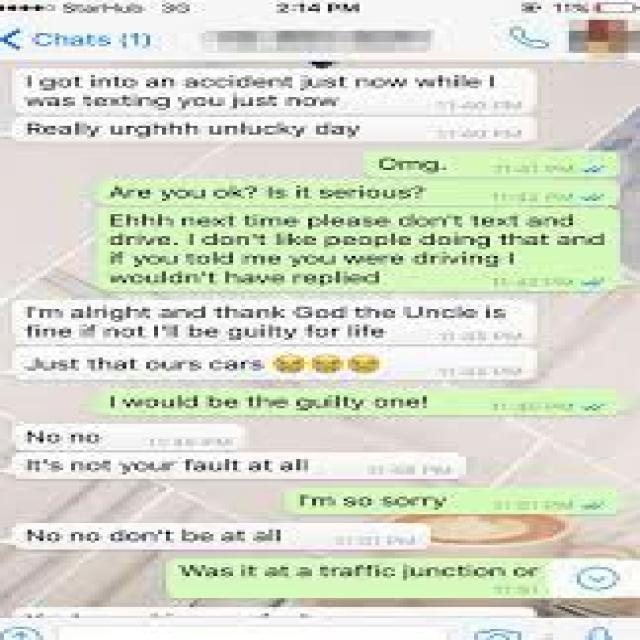scam: (16, 64, 518, 138), (19, 301, 528, 349), (6, 522, 442, 556), (22, 345, 406, 378), (20, 454, 443, 478), (16, 424, 273, 454)
